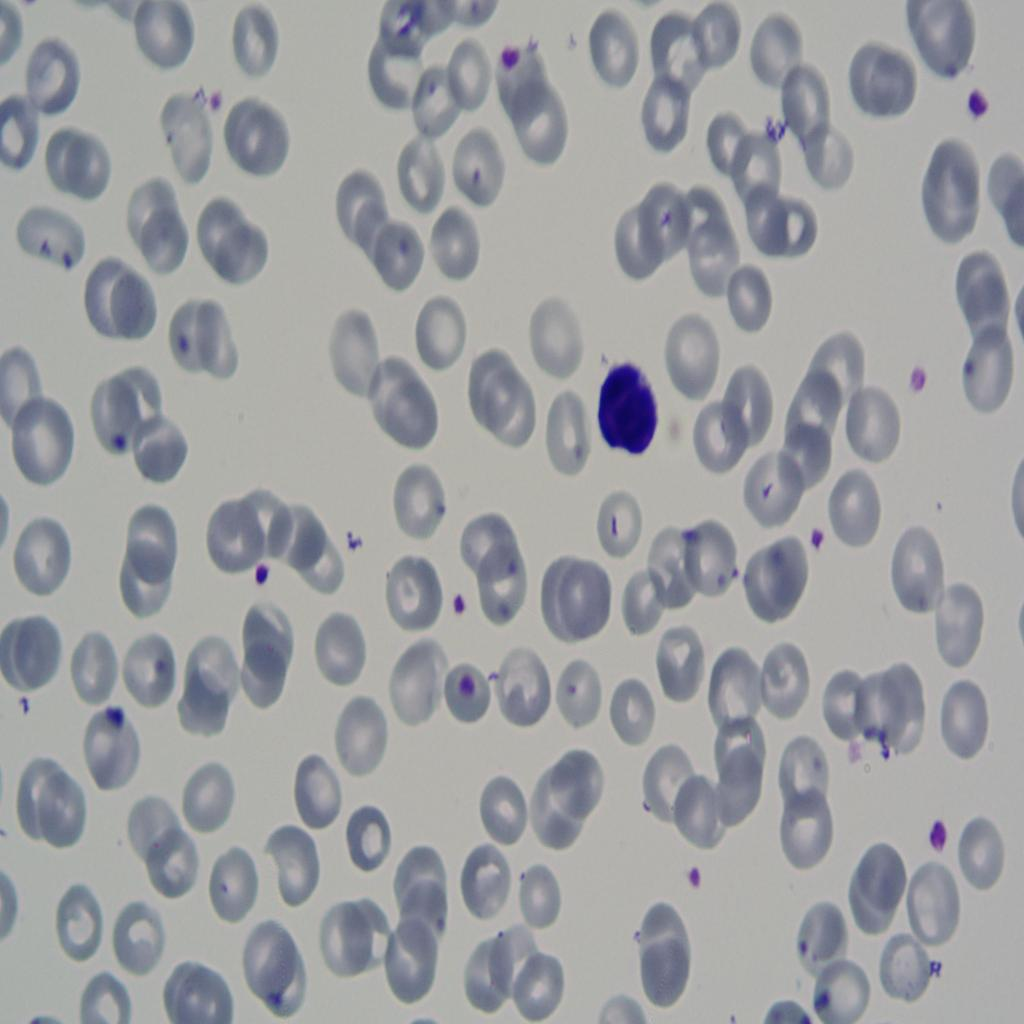Myeoblast: (581, 362, 665, 468)
Platelet: (670, 850, 721, 916), (492, 25, 528, 77), (98, 681, 128, 739), (904, 354, 930, 407), (928, 806, 950, 866), (968, 86, 1000, 124), (110, 416, 137, 460), (449, 578, 475, 622), (248, 548, 274, 589), (209, 80, 232, 117), (806, 521, 828, 558), (462, 662, 478, 703)
